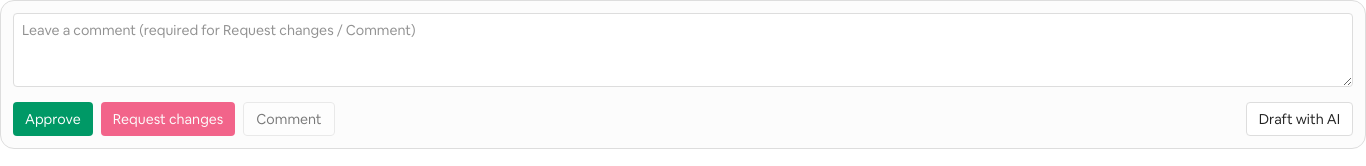
Draft with AI › seeds a PR review comment from the AI draft
Expected: the text box named "review comment" is empty, 13,13 -> 1353,87
Click the button "Draft with AI" at (1299, 119), box 1246,102 -> 1353,136
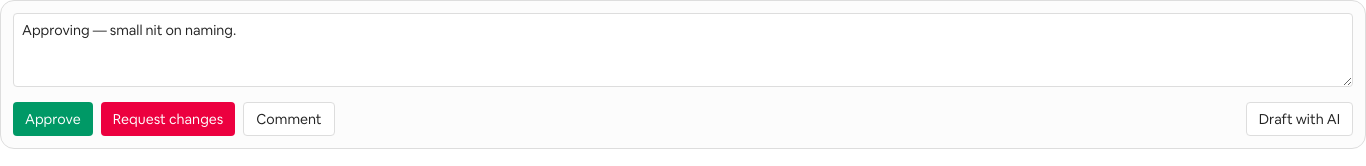
Result: the text box named "review comment" holds "Approving — small nit on naming." at 13,13 -> 1353,87
